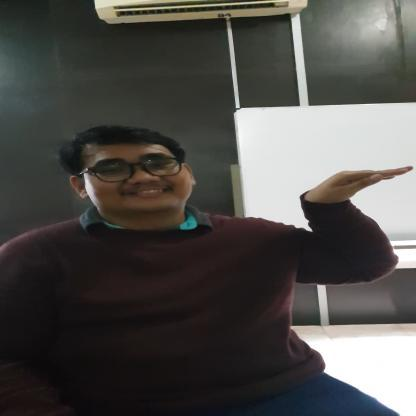Z: (292, 166, 412, 280)
